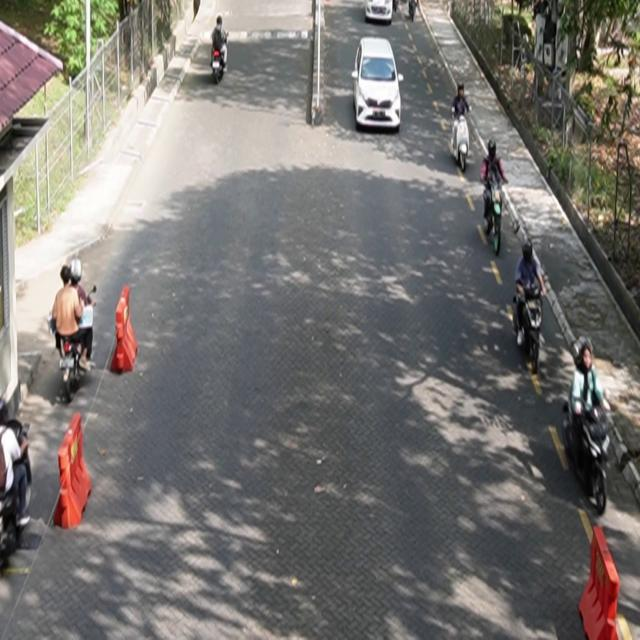car: (352, 37, 405, 133)
